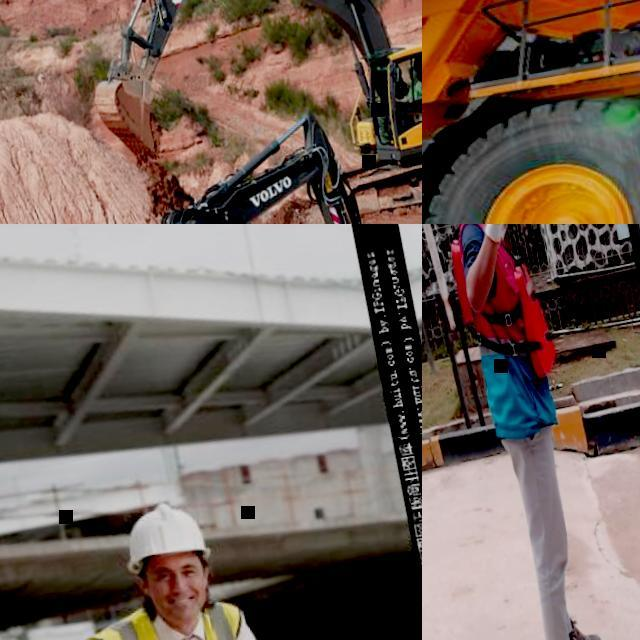helmet: (116, 494, 212, 574)
vest: (443, 224, 562, 390), (75, 590, 258, 640), (404, 78, 422, 100)
